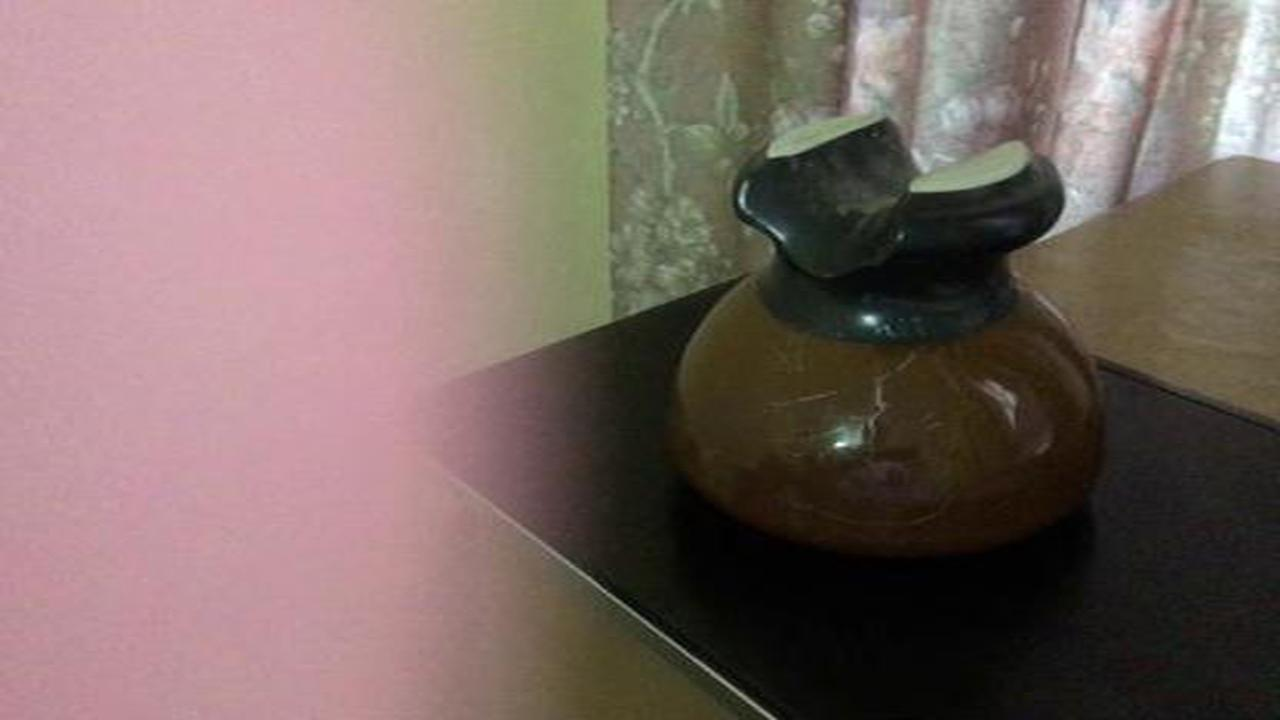insulator_pin: (659, 103, 1127, 577)
